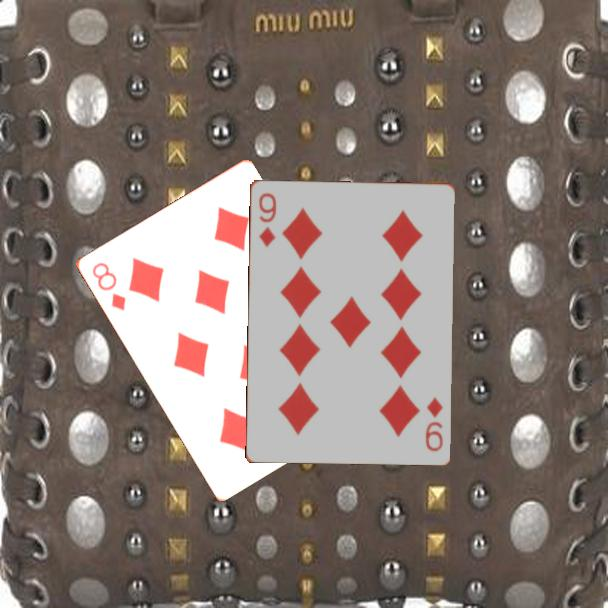d08: (88, 258, 128, 314)
d09: (421, 393, 446, 454), (255, 189, 279, 249)
